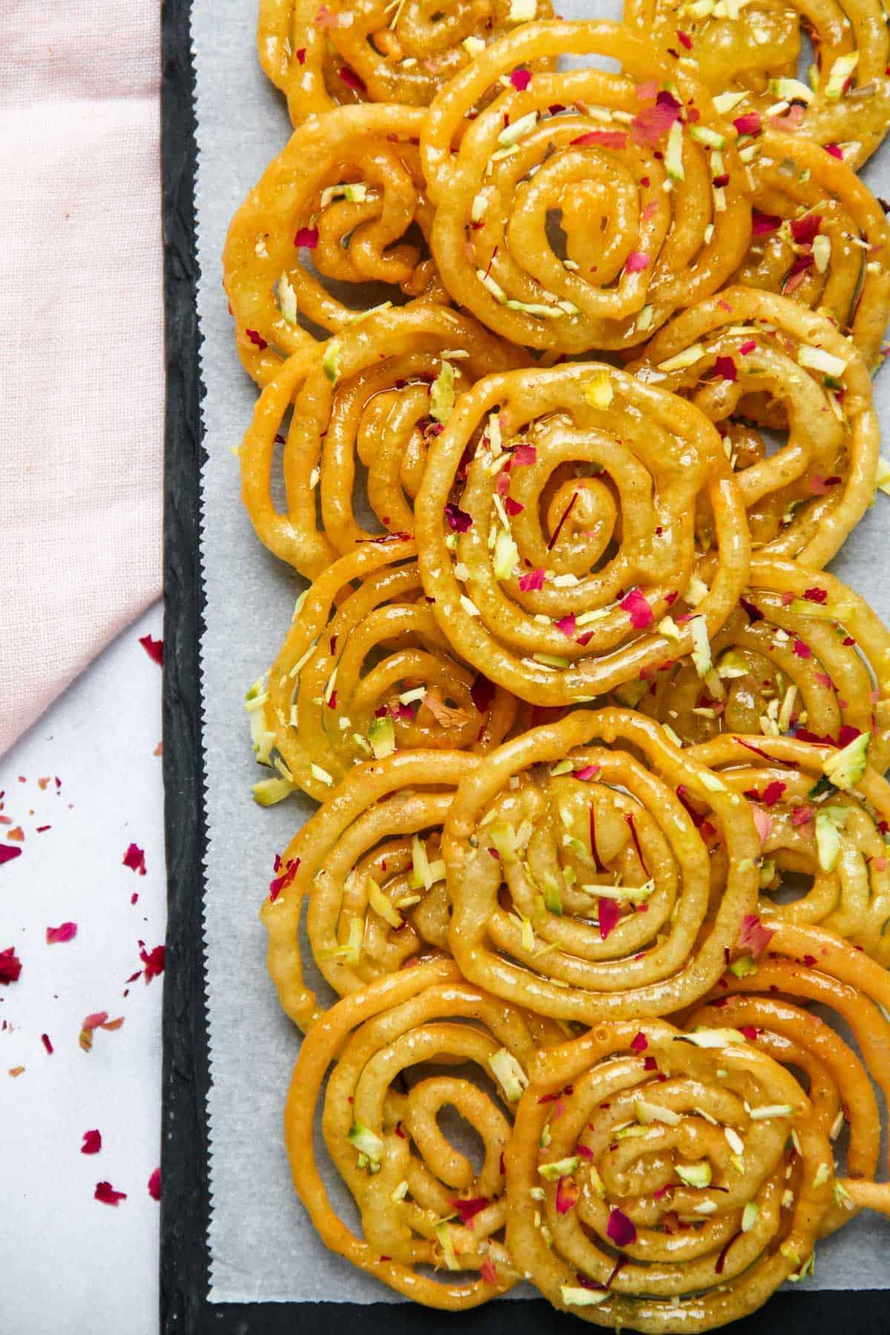jalebi: (252, 17, 890, 1324)
